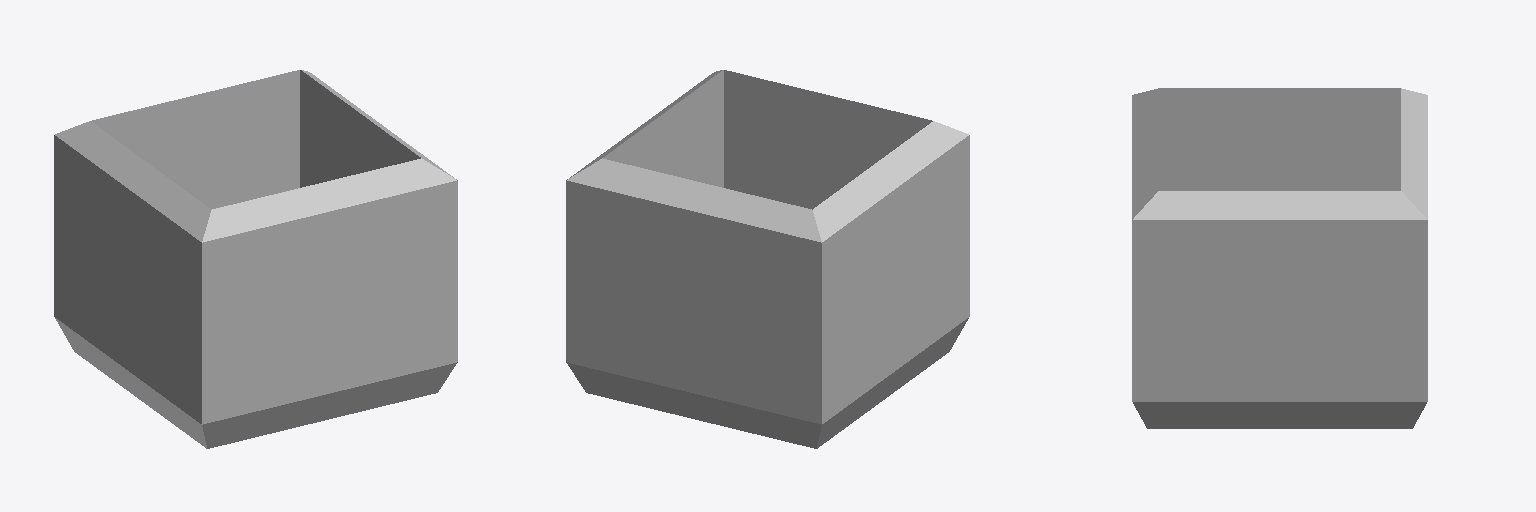
File: obsidiancauldron.obj
3 renders of one model, left to right at view 1: azimuth 30°, elevation 25°; view 2: azimuth 150°, elevation 25°; view 3: azimuth 270°, elevation 25°, orthographic.
Visible parts, largest first — view 1: Cube; view 2: Cube; view 3: Cube.
Boxes of the visible parts, x1,y1,x2,y2 form: Cube: [54, 70, 457, 448]; Cube: [566, 70, 969, 448]; Cube: [1132, 88, 1427, 428].
Size of the model in its own units: 1 by 0.8694 by 1.